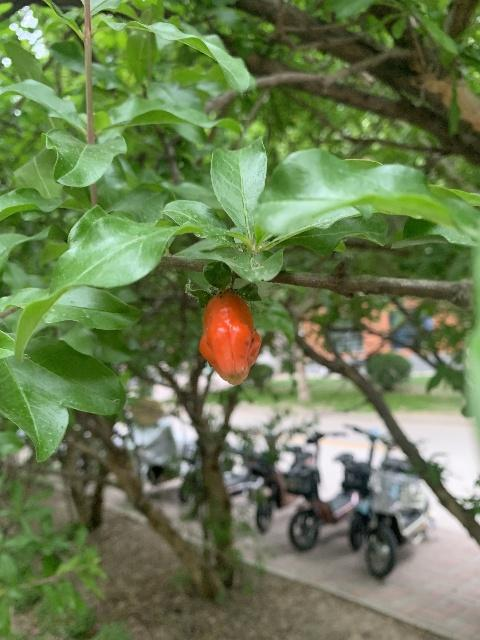bud: (199, 289, 260, 385)
